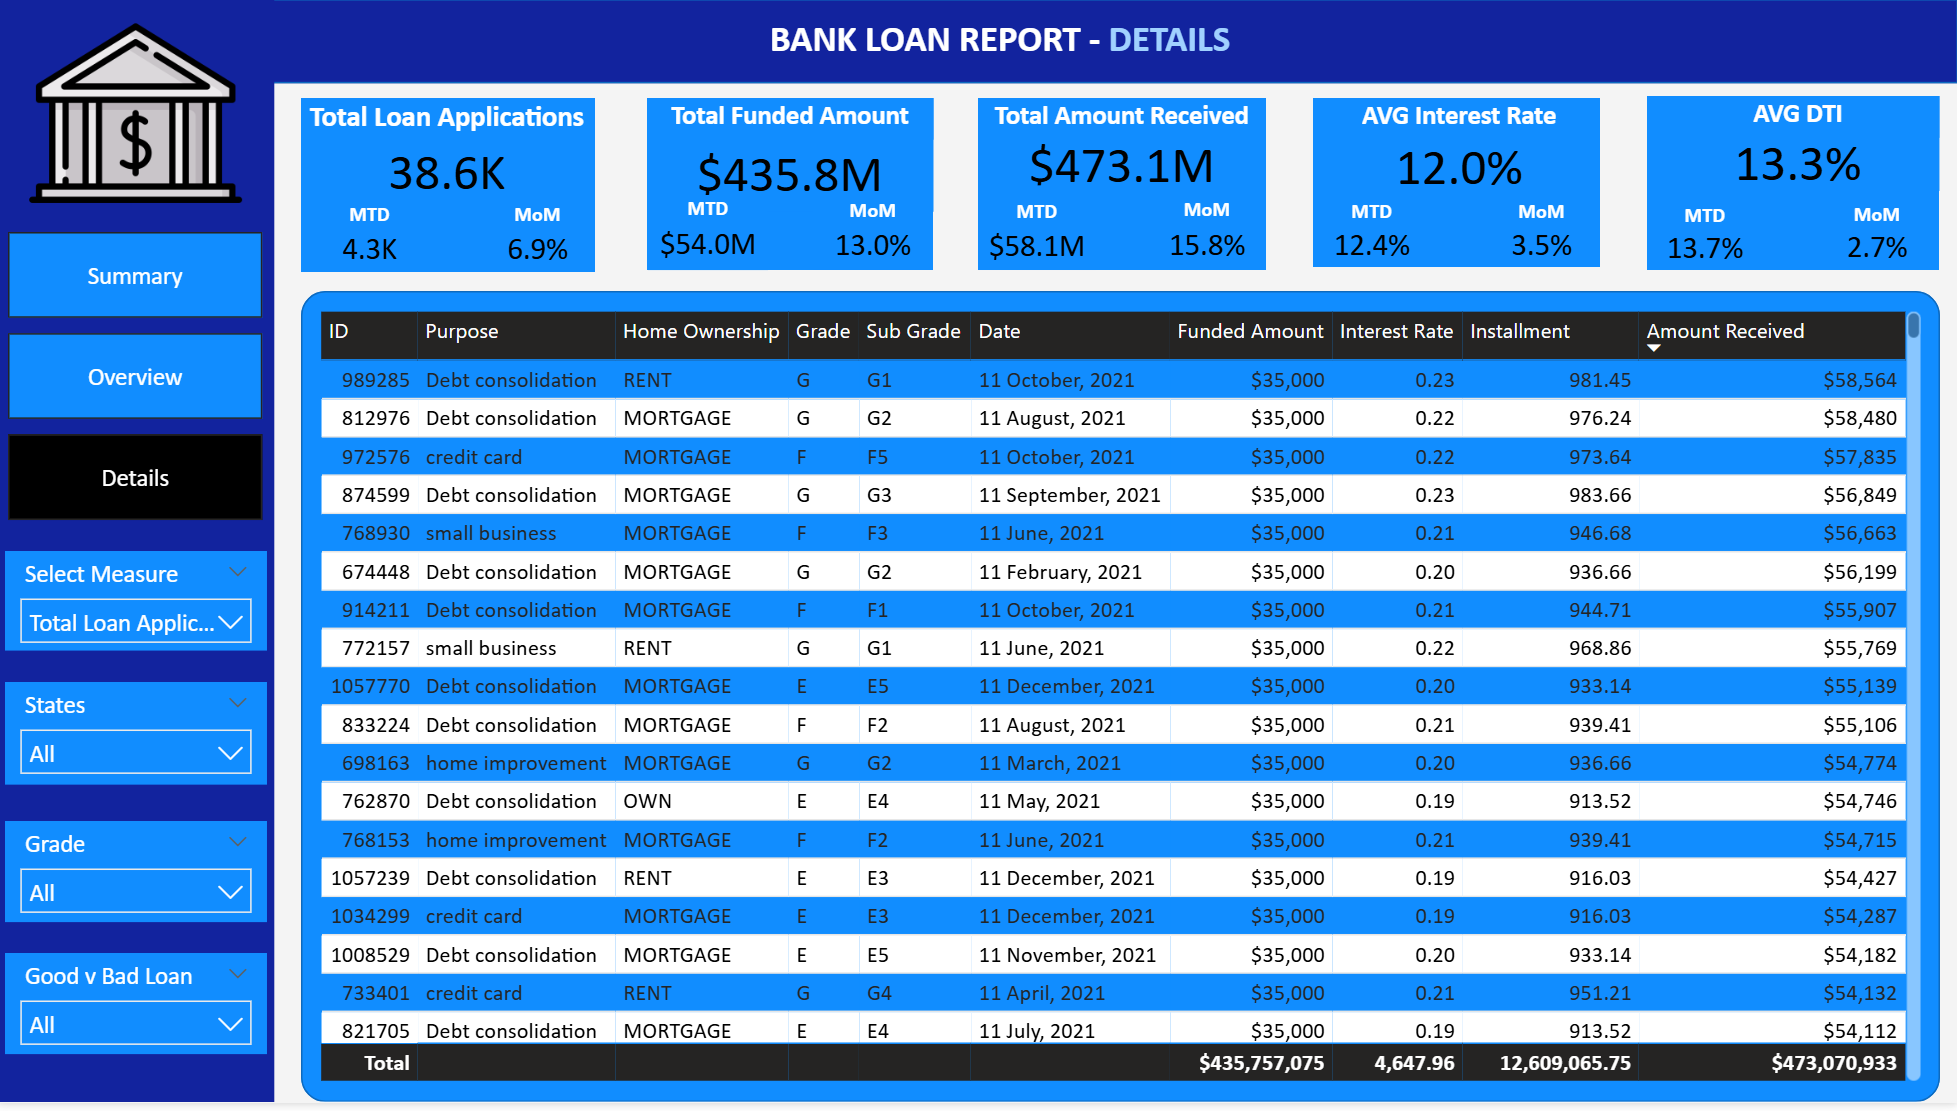

Layout of this report page (visuals, bound fields, positions):
{"tool":"powerbi","page":{"name":"Details","canvas":[1280,720],"ordinal":2},"visuals":[{"type":"shape","box":[0,0,1280,55.1],"z":0},{"type":"card","title":"AVG DTI","fields":{"Values":["bank_loan_data.Average DTI"]},"box":[1082.6,63.3,185.2,62.4],"z":0,"group":"g7"},{"type":"card","title":"Total Loan Applications","fields":{"Values":["bank_loan_data.Total Loan Applications"]},"box":[198.3,64.4,190.5,70],"z":0,"group":"g1"},{"type":"card","title":"Total Amount Received","fields":{"Values":["bank_loan_data.Total Amount Received"]},"box":[641.9,64.4,183.8,61.8],"z":0,"group":"g3"},{"type":"card","title":"AVG Interest Rate","fields":{"Values":["bank_loan_data.AVG Interest Rate"]},"box":[862.1,64.4,184.4,65],"z":0,"group":"g6"},{"type":"card","title":"Total Funded Amount","fields":{"Values":["bank_loan_data.Total Funded Amount"]},"box":[424.3,64.6,186.7,73.8],"z":0,"group":"g4"},{"type":"shape","box":[0,0,181.5,720],"z":1000},{"type":"card","title":"MTD","fields":{"Values":["bank_loan_data.MTD Funded Amount"]},"box":[424.9,128.2,78.3,48.7],"z":1000,"group":"g4"},{"type":"card","title":"MTD","fields":{"Values":["bank_loan_data.MTD AVG Interest Rate"]},"box":[858.7,129.6,76.7,45.2],"z":1000,"group":"g6"},{"type":"card","title":"MTD","fields":{"Values":["bank_loan_data.MTD Amount Received"]},"box":[640,129.9,76.9,46.7],"z":1000,"group":"g3"},{"type":"card","title":"MTD","fields":{"Values":["bank_loan_data.MTD Loan Applications"]},"box":[205.5,131.8,75.2,46.4],"z":1000,"group":"g1"},{"type":"card","title":"MTD","fields":{"Values":["bank_loan_data.MTD Average DTI"]},"box":[1076.9,132.3,75.6,44.5],"z":1000,"group":"g7"},{"type":"textbox","box":[473,6.2,362.9,42],"z":2000},{"type":"card","title":"MoM","fields":{"Values":["bank_loan_data.MoM Amount Received"]},"box":[750.8,128.2,77.1,47.5],"z":2000,"group":"g3"},{"type":"card","title":"MoM","fields":{"Values":["bank_loan_data.MoM Funded Amount"]},"box":[532.4,129.5,78.2,47.2],"z":2000,"group":"g4"},{"type":"card","title":"MoM","fields":{"Values":["bank_loan_data.MoM AVG Interest Rate"]},"box":[969.8,129.5,76.4,45.4],"z":2000,"group":"g6"},{"type":"card","title":"MoM","fields":{"Values":["bank_loan_data.MoM Calculations"]},"box":[315.1,131.9,75.2,46.4],"z":2000,"group":"g1"},{"type":"card","title":"MoM","fields":{"Values":["bank_loan_data.MoM AVG DTI"]},"box":[1189.2,131.9,75.7,44.8],"z":2000,"group":"g7"},{"type":"group","id":"g1","title":"Group 1","box":[198.3,64.4,192,113.9],"z":3000},{"type":"group","id":"g2","title":"Group 1","box":[424.3,64.6,186.7,112.3],"z":4000},{"type":"group","id":"g3","title":"Group 2","box":[640,64.4,187.9,112.2],"z":4001,"group":"g5"},{"type":"group","id":"g4","title":"Group 2","box":[424.3,64.6,186.7,112.3],"z":4001,"group":"g2"},{"type":"group","id":"g5","title":"Group 1","box":[640,64.4,187.9,112.2],"z":5000},{"type":"group","id":"g6","title":"Group 1","box":[858.7,64.4,187.8,110.6],"z":6000},{"type":"group","id":"g7","title":"Group 1","box":[1076.9,63.3,190.9,113.5],"z":7000},{"type":"slicer","fields":{"Values":["bank_loan_data.address_state"]},"box":[5.2,445.8,171,66.6],"z":8000},{"type":"slicer","fields":{"Values":["bank_loan_data.grade"]},"box":[5.2,536.5,171,65.9],"z":9000},{"type":"slicer","fields":{"Values":["bank_loan_data.Good v Bad Loans"]},"box":[5.2,622.7,171,65.9],"z":10000},{"type":"shape","box":[198.4,190.6,1069.8,529.4],"z":11000},{"type":"slicer","title":"Select Measure","fields":{"Values":["Select Measure.Select Measure"]},"box":[5.2,360.3,171,65.3],"z":12000},{"type":"tableEx","fields":{"Values":["bank_loan_data.id","bank_loan_data.purpose","bank_loan_data.home_ownership","bank_loan_data.grade","bank_loan_data.sub_grade","bank_loan_data.issue_date","bank_loan_data.Total Funded Amount","Sum(bank_loan_data.int_rate)","Sum(bank_loan_data.installment)","bank_loan_data.Total Amount Received"]},"box":[205.6,199.1,1054.8,512.4],"z":13000},{"type":"pageNavigator","box":[7.2,152.1,166.4,189.9],"z":14000},{"type":"image","box":[0,0,181.5,149.5],"z":15000}]}

Visuals, with their boxes in screenshot pixels (x1, y1, x2, y2), scaled from the page's 1280x720 canvas onto the 1957x1111 screenshot:
shape: (0, 0, 1956, 85)
"AVG DTI" card: (1655, 98, 1938, 194)
"Total Loan Applications" card: (303, 99, 594, 207)
"Total Amount Received" card: (981, 99, 1262, 195)
"AVG Interest Rate" card: (1318, 99, 1600, 200)
"Total Funded Amount" card: (649, 100, 934, 214)
shape: (0, 0, 277, 1110)
"MTD" card: (650, 198, 769, 273)
"MTD" card: (1313, 200, 1430, 270)
"MTD" card: (978, 200, 1096, 273)
"MTD" card: (314, 203, 429, 275)
"MTD" card: (1646, 204, 1762, 273)
textbox: (723, 10, 1278, 74)
"MoM" card: (1148, 198, 1266, 271)
"MoM" card: (814, 200, 934, 273)
"MoM" card: (1483, 200, 1600, 270)
"MoM" card: (482, 204, 597, 275)
"MoM" card: (1818, 204, 1934, 273)
"Group 1" group: (303, 99, 597, 275)
"Group 1" group: (649, 100, 934, 273)
"Group 2" group: (978, 99, 1266, 273)
"Group 2" group: (649, 100, 934, 273)
"Group 1" group: (978, 99, 1266, 273)
"Group 1" group: (1313, 99, 1600, 270)
"Group 1" group: (1646, 98, 1938, 273)
slicer - bank_loan_data.address_state: (8, 688, 269, 791)
slicer - bank_loan_data.grade: (8, 828, 269, 930)
slicer - bank_loan_data.Good v Bad Loans: (8, 961, 269, 1063)
shape: (303, 294, 1939, 1110)
"Select Measure" slicer: (8, 556, 269, 657)
tableEx - bank_loan_data.id x bank_loan_data.purpose: (314, 307, 1927, 1098)
pageNavigator: (11, 235, 265, 528)
image: (0, 0, 277, 231)
